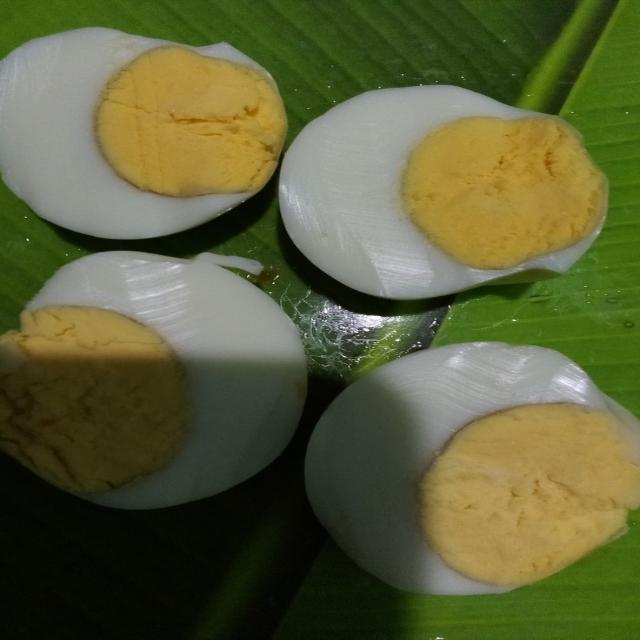eggs: (0, 24, 640, 588)
